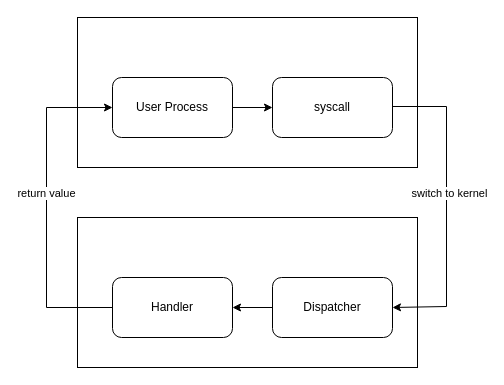
The diagram is 504 pixels wide and 385 high, and some of its shapes have lost their labels. The box of each missing label's shape, as (x1, y1, x2, y2) in pixels:
Kernel Space (Ring 0): (76, 216, 418, 368)
User Space (Ring 3): (76, 16, 418, 168)
